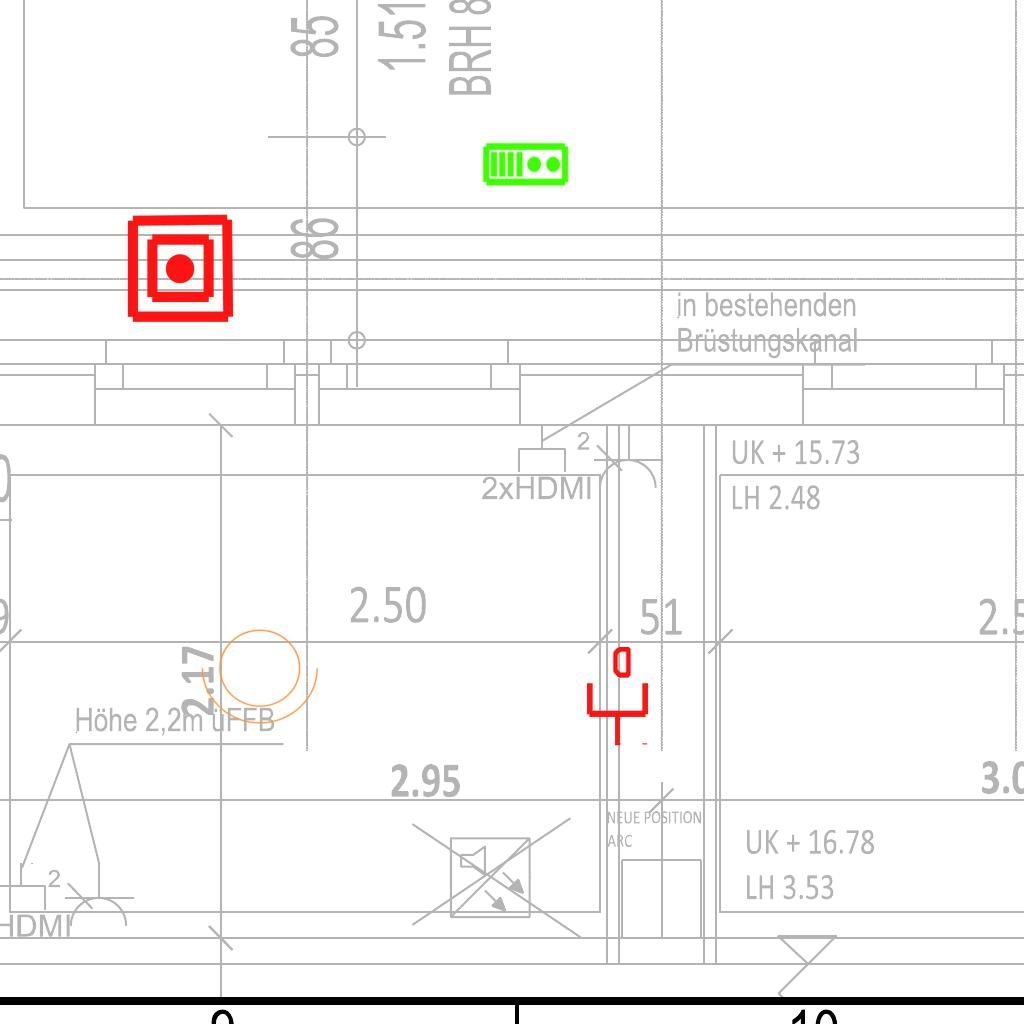Datenanschluss_einfach: (583, 647, 652, 747)
Gegensprechanlage_mit_Video: (482, 140, 570, 187)
NAM-Nichtautomatischer_Melder: (124, 212, 237, 325)
Scheinwerfer_fuer_Alarmbeleuchtung: (197, 617, 329, 729)
